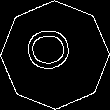O_E: (29, 33, 81, 77)
